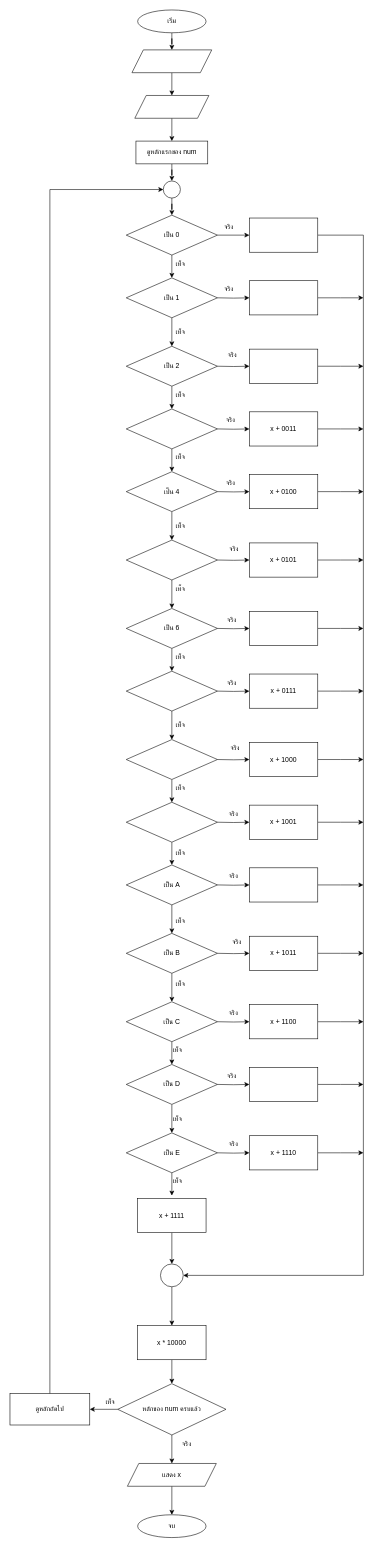
The diagram is 378 pixels wide and 1548 high, and some of its shapes have lost their labels. Here are the shapes that lost their labels. From the top down, the centre of each, then its label:
At pixel 171 61: "รับค่า num".
At pixel 171 106: "สร้างตัวแปร x".
At pixel 283 234: "x + 0000".
At pixel 283 297: "x + 0001".
At pixel 283 366: "x + 0010".
At pixel 171 428: "เป็น 3".
At pixel 171 560: "เป็น 5".
At pixel 283 628: "x + 0110".
At pixel 171 691: "เป็น 7".
At pixel 171 759: "เป็น 8".
At pixel 171 822: "เป็น 9".
At pixel 283 884: "x + 1010".
At pixel 283 1084: "x + 1101".
